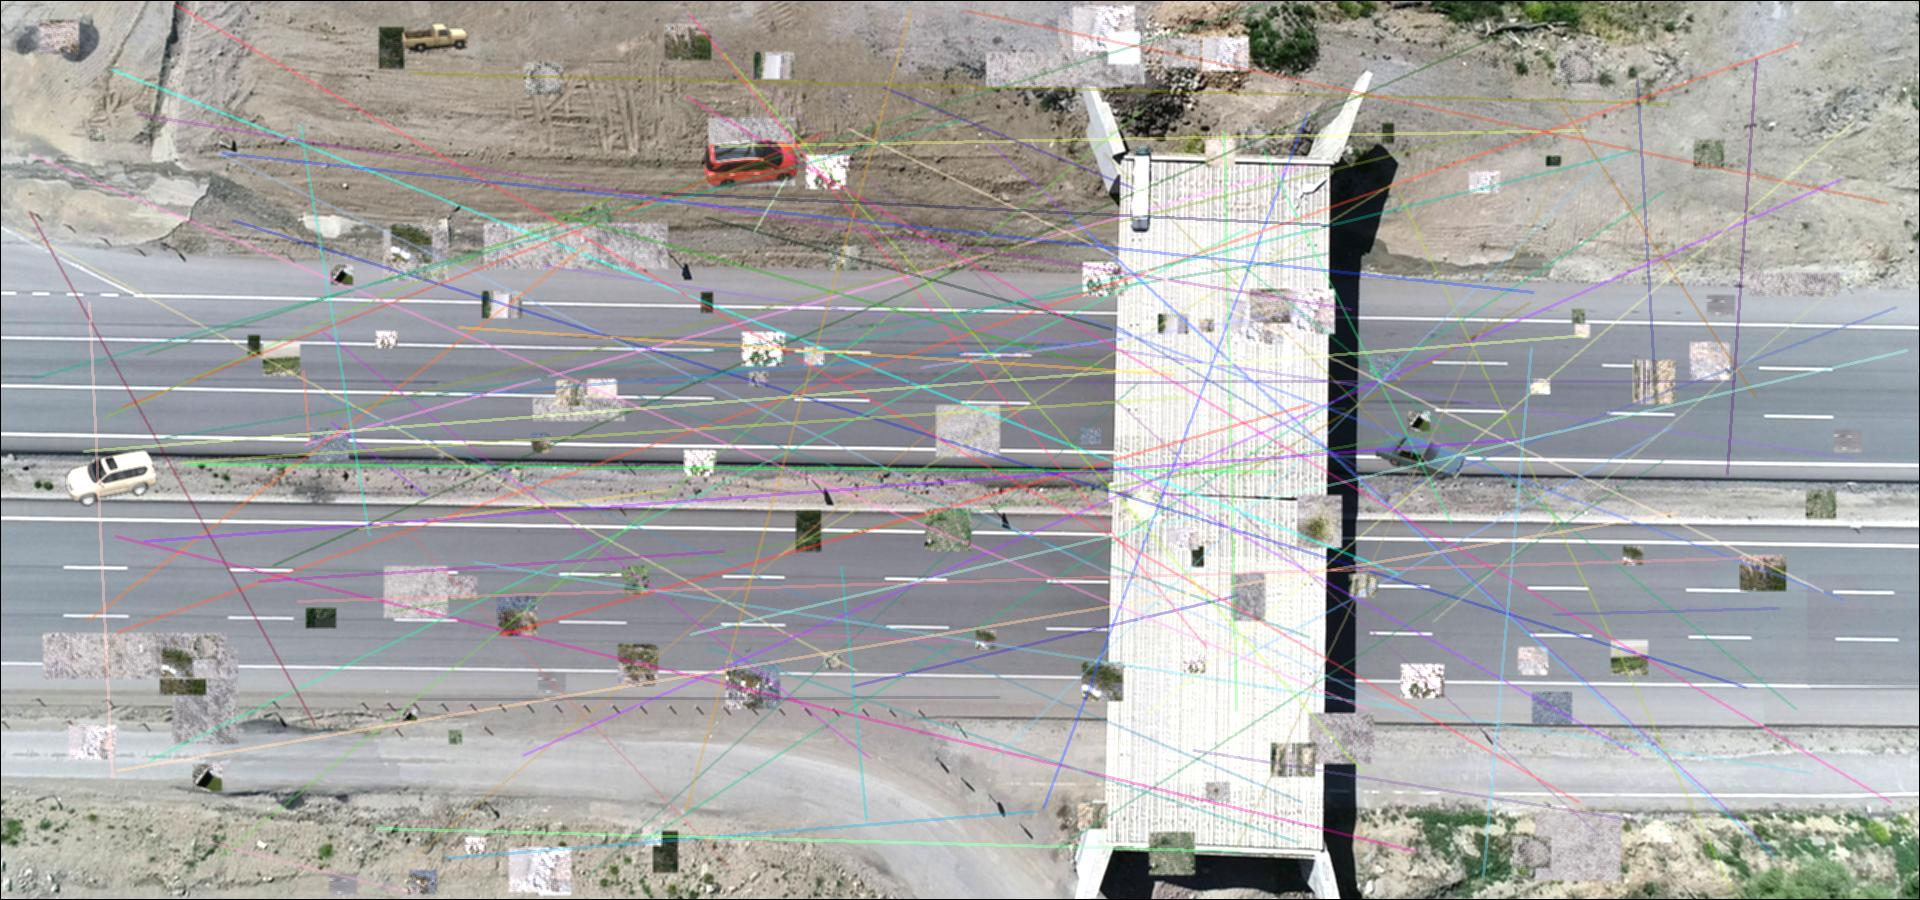arac: (702, 136, 798, 191), (62, 451, 159, 506), (1373, 431, 1468, 480), (402, 22, 469, 55), (1128, 143, 1152, 231)
